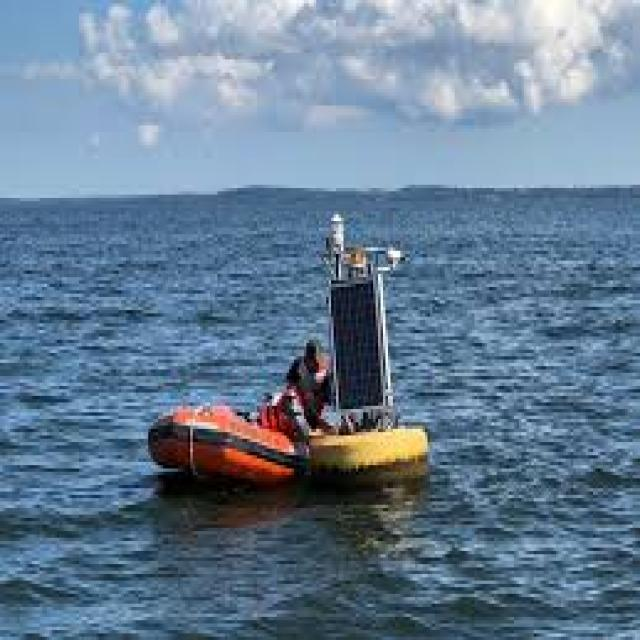2.5 sepcial mark: (291, 168, 438, 493)
